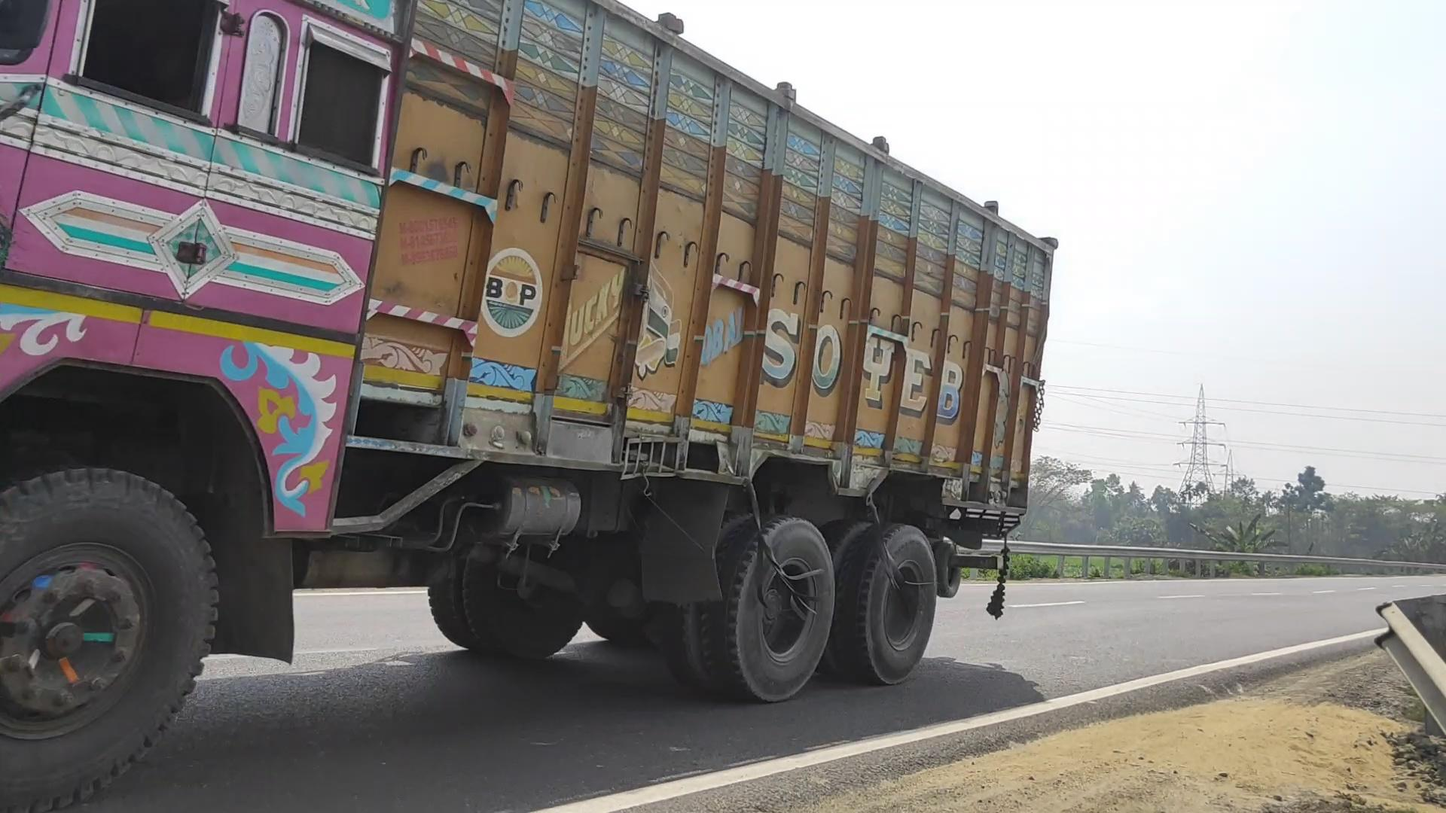truck: (1, 1, 1060, 813)
